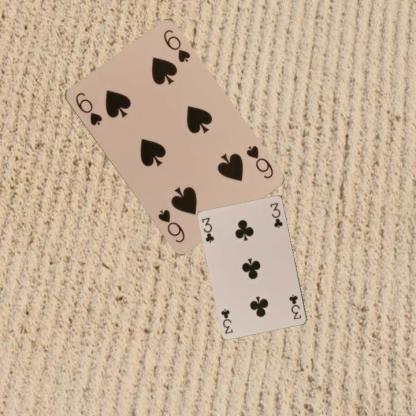3c: (286, 292, 302, 321), (200, 215, 216, 244)
6s: (72, 90, 104, 128), (242, 142, 274, 180)
